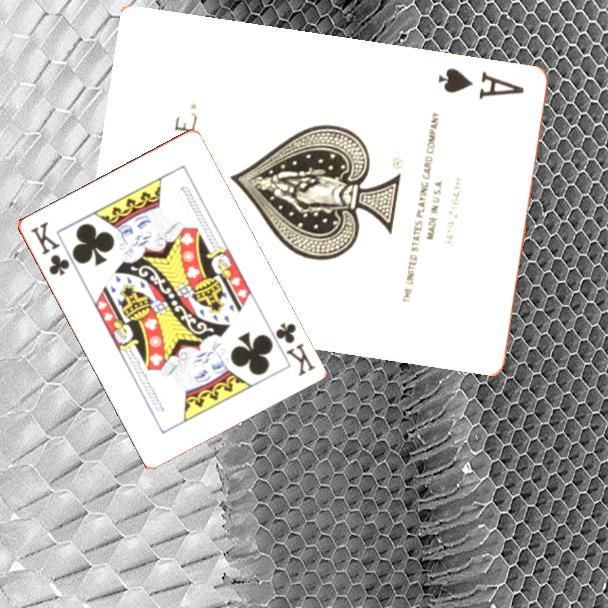c13: (271, 319, 318, 379), (26, 218, 72, 278)
s01: (434, 65, 527, 103)
